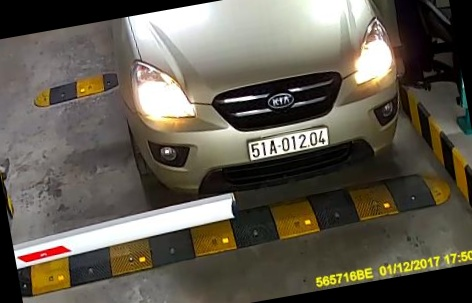plate: (239, 125, 338, 165)
